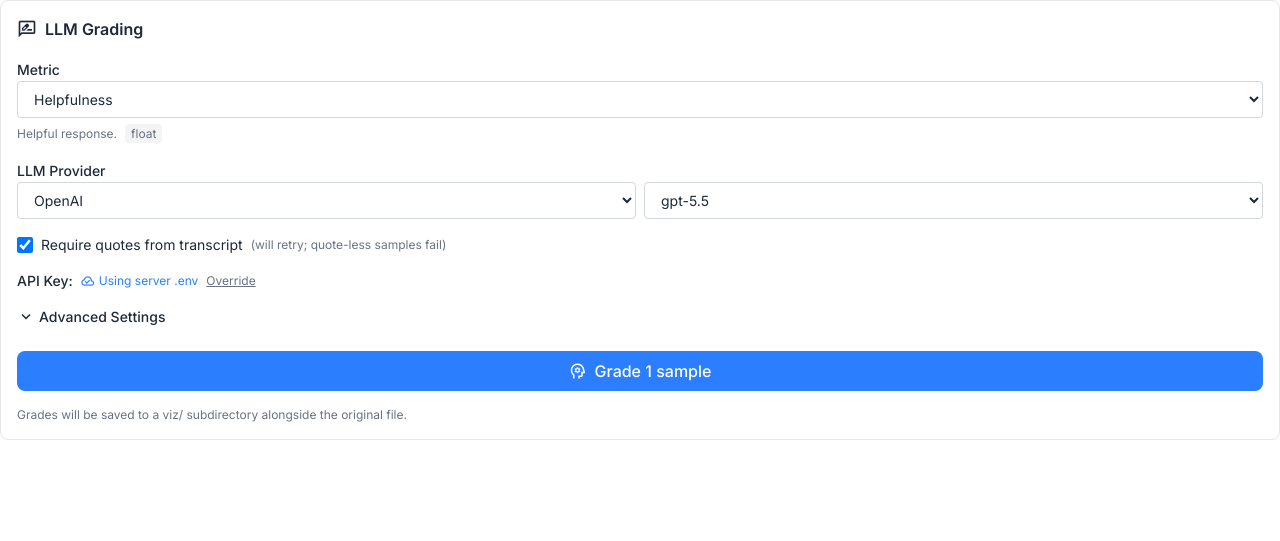
Test: GradingPanel › collapses the API key row to a single line when using the server key
The image size is (1280, 541).
Expected: the text "Using server .env" is shown, [81, 273, 198, 289]
Click the button "Override": coordinates (231, 281) [206, 273, 256, 289]
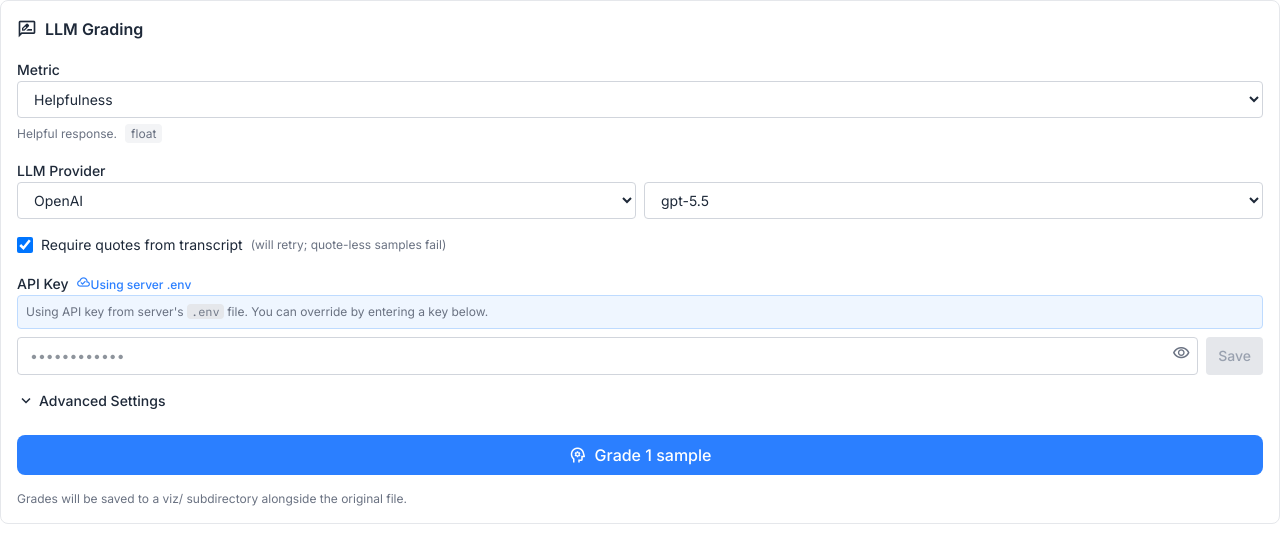
Expected: the password field with placeholder "••••••••••••" is shown, [17, 337, 1198, 375]
Expected: the button "Save" is shown, [1206, 337, 1263, 375]
